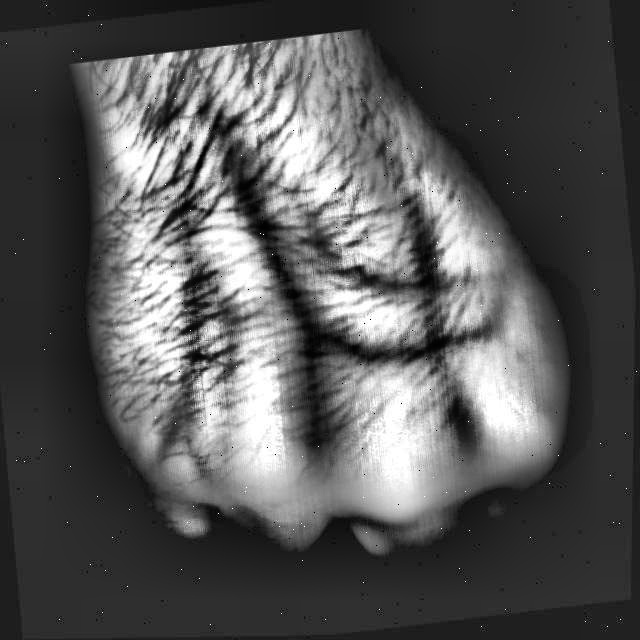Vein: (203, 126, 329, 336)
